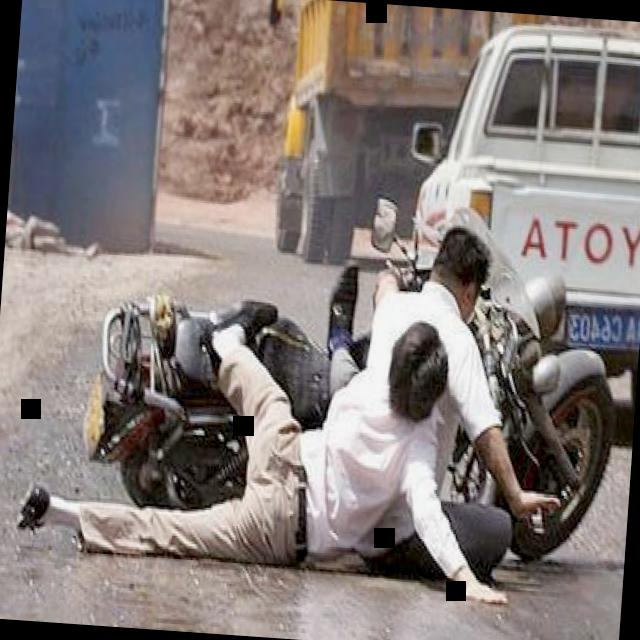Fall-Detected: (316, 201, 570, 566)
